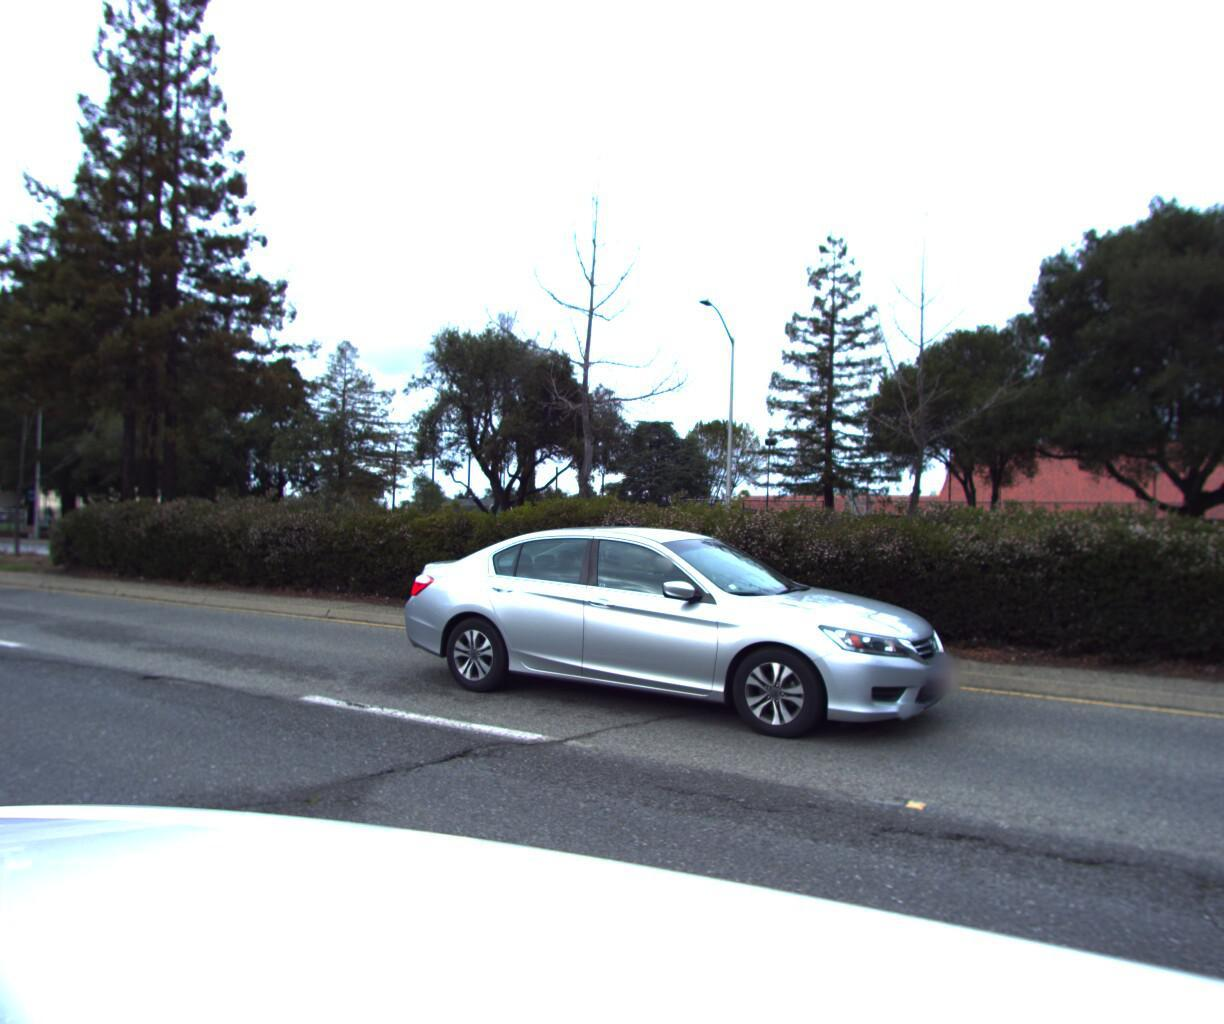car: (376, 484, 975, 758)
